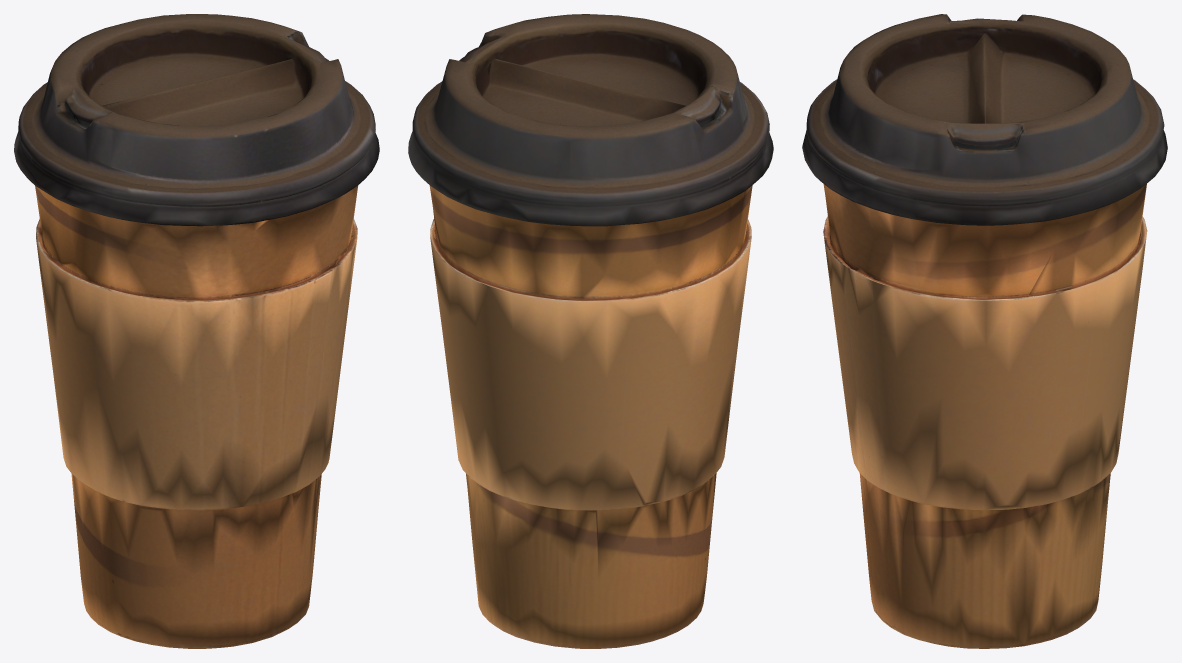
File: CoffeeCup_low.fbx
3 views of the same model, side by side, from view 1: azimuth 30°, elevation 25°; view 2: azimuth 150°, elevation 25°; view 3: azimuth 270°, elevation 25° (orthographic).
Visible parts, largest first — view 1: CoffeeCup_low; view 2: CoffeeCup_low; view 3: CoffeeCup_low.
Part boxes in pixels (x1=…): CoffeeCup_low: x1=14, y1=14, x2=379, y2=648; CoffeeCup_low: x1=408, y1=14, x2=773, y2=648; CoffeeCup_low: x1=802, y1=14, x2=1167, y2=648.
Bounding box in the file's own units: 126 × 200 × 125.
